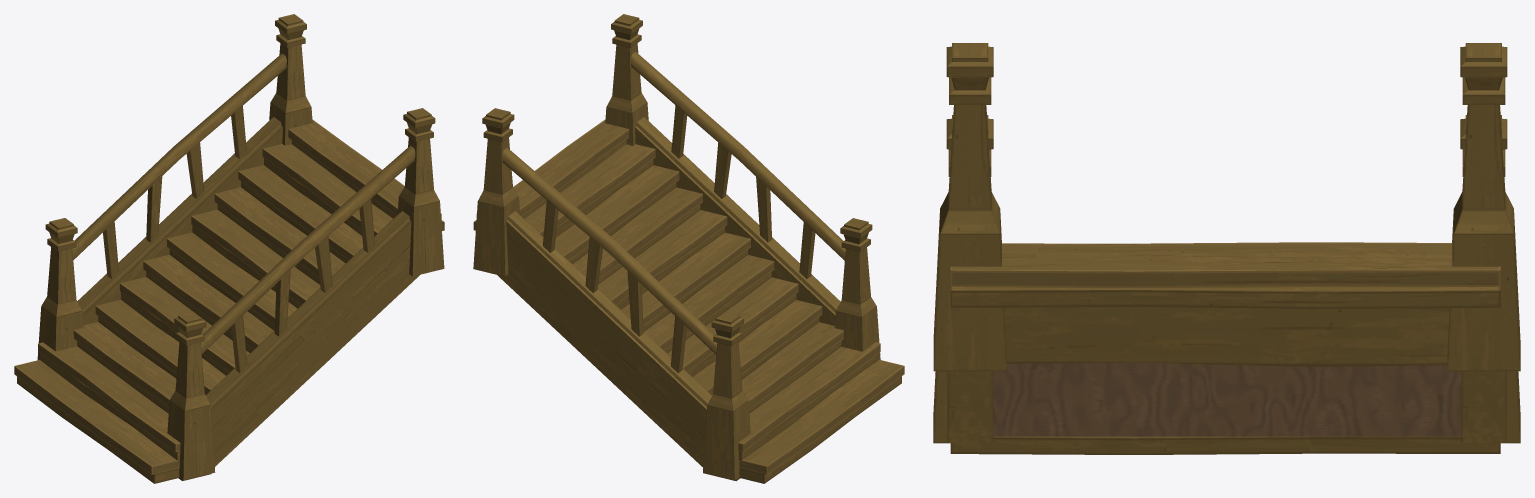
File: SM_building_stairs_04.glb
The picture shows the model from 3 angles, left to right: view 1: azimuth 30°, elevation 25°; view 2: azimuth 150°, elevation 25°; view 3: azimuth 270°, elevation 25°; orthographic projection. The views are drawn at different scales.
Parts seen in each view (by area): view 1: SM_building_stairs_04; view 2: SM_building_stairs_04; view 3: SM_building_stairs_04.
Boxes of the visible parts, <box> form: SM_building_stairs_04: <box>14,14,444,483</box>; SM_building_stairs_04: <box>473,14,904,483</box>; SM_building_stairs_04: <box>933,43,1520,454</box>.
Bounding box in the file's own units: 3.72 × 3.68 × 3.2.
3 materials, 3 textured.
